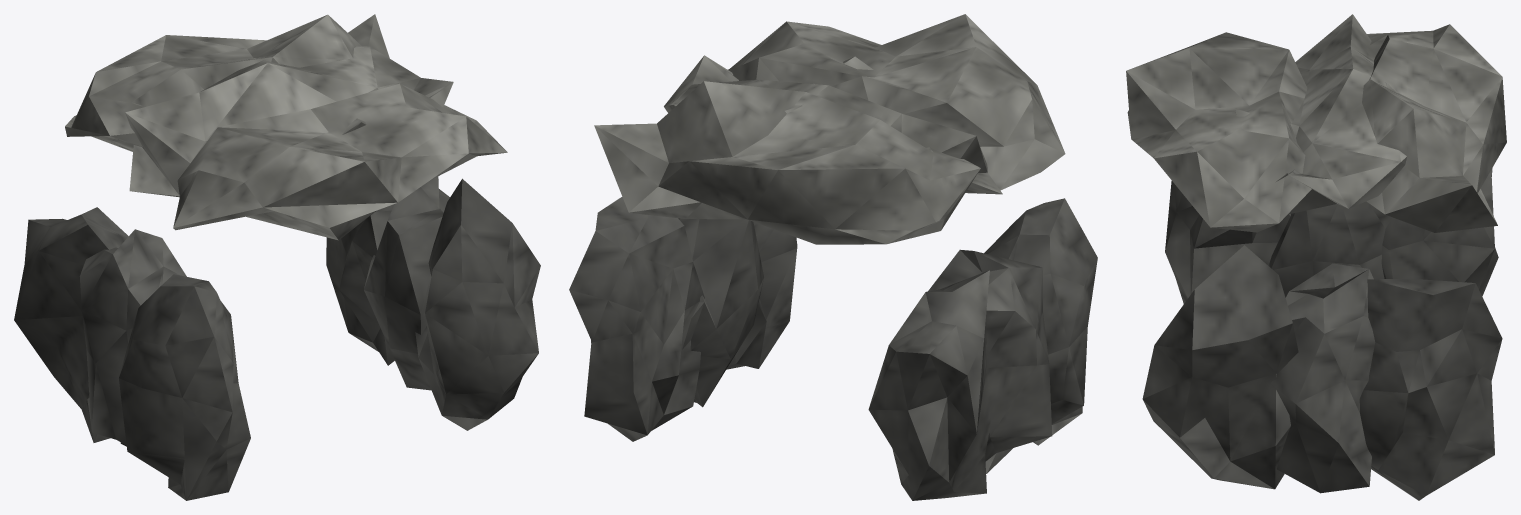
The model's file is SM_CaveTunnel_Segment.fbx.
3 renders of one model, left to right at view 1: azimuth 30°, elevation 25°; view 2: azimuth 150°, elevation 25°; view 3: azimuth 270°, elevation 25°, orthographic. The views are drawn at different scales.
Parts seen in each view (by area): view 1: SM_CaveTunnel_Segment; view 2: SM_CaveTunnel_Segment; view 3: SM_CaveTunnel_Segment.
Boxes of the visible parts, left/top/right/bottom form: SM_CaveTunnel_Segment: left=14, top=14, right=540, bottom=500; SM_CaveTunnel_Segment: left=569, top=14, right=1097, bottom=500; SM_CaveTunnel_Segment: left=1126, top=14, right=1506, bottom=500.
Bounding box in the file's own units: 14.75 × 12.95 × 12.4.
1 material, 1 textured.
